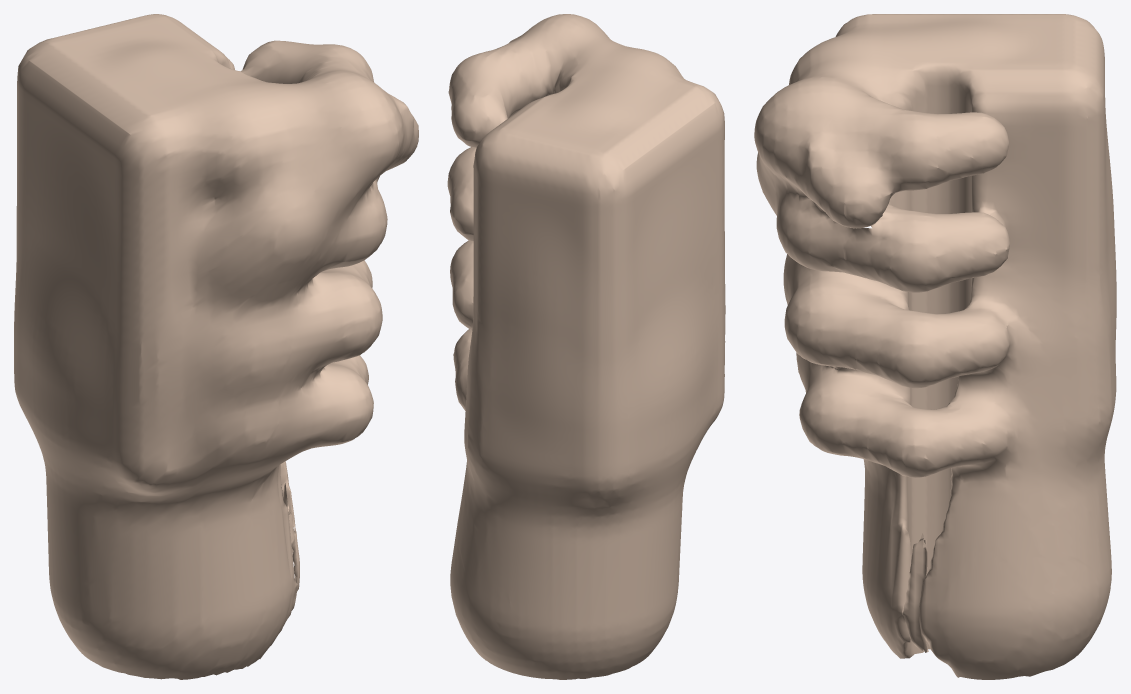
File: deity_hand_grip.glb
3 renders of one model, left to right at view 1: azimuth 30°, elevation 25°; view 2: azimuth 150°, elevation 25°; view 3: azimuth 270°, elevation 25°, orthographic. The views are drawn at different scales.
Visible parts, largest first — view 1: DeityHandGrip; view 2: DeityHandGrip; view 3: DeityHandGrip.
Part boxes in pixels (x1=…): DeityHandGrip: x1=14, y1=14, x2=418, y2=679; DeityHandGrip: x1=447, y1=14, x2=725, y2=679; DeityHandGrip: x1=754, y1=14, x2=1116, y2=679.
Size of the model in its own units: 0.0737 by 0.14 by 0.0769.
